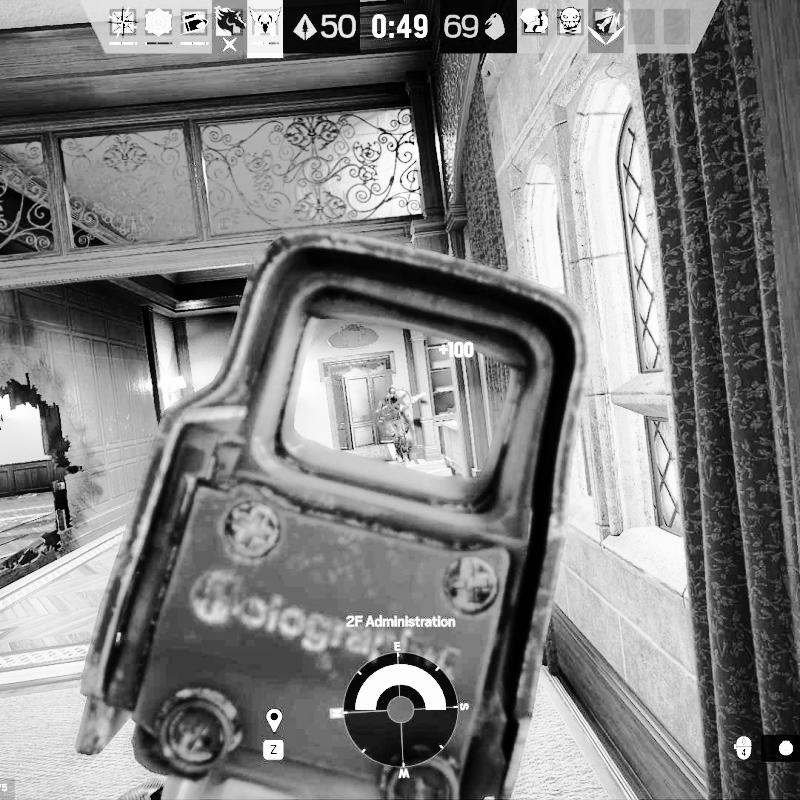Character: (375, 385, 414, 464)
Head: (386, 386, 399, 396)
